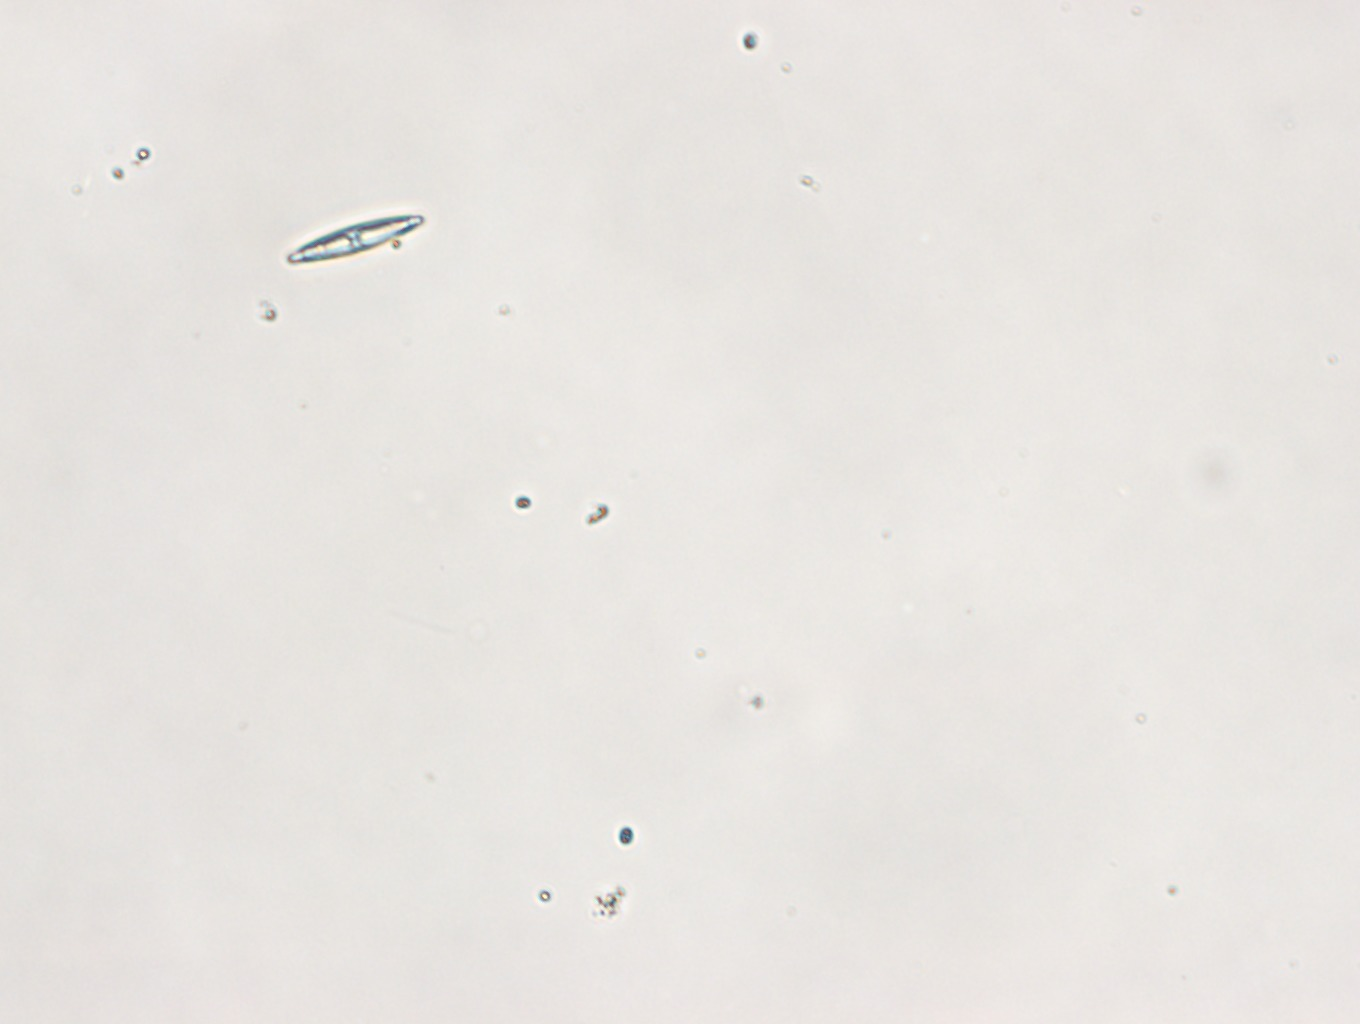navicula: (288, 213, 424, 268)
